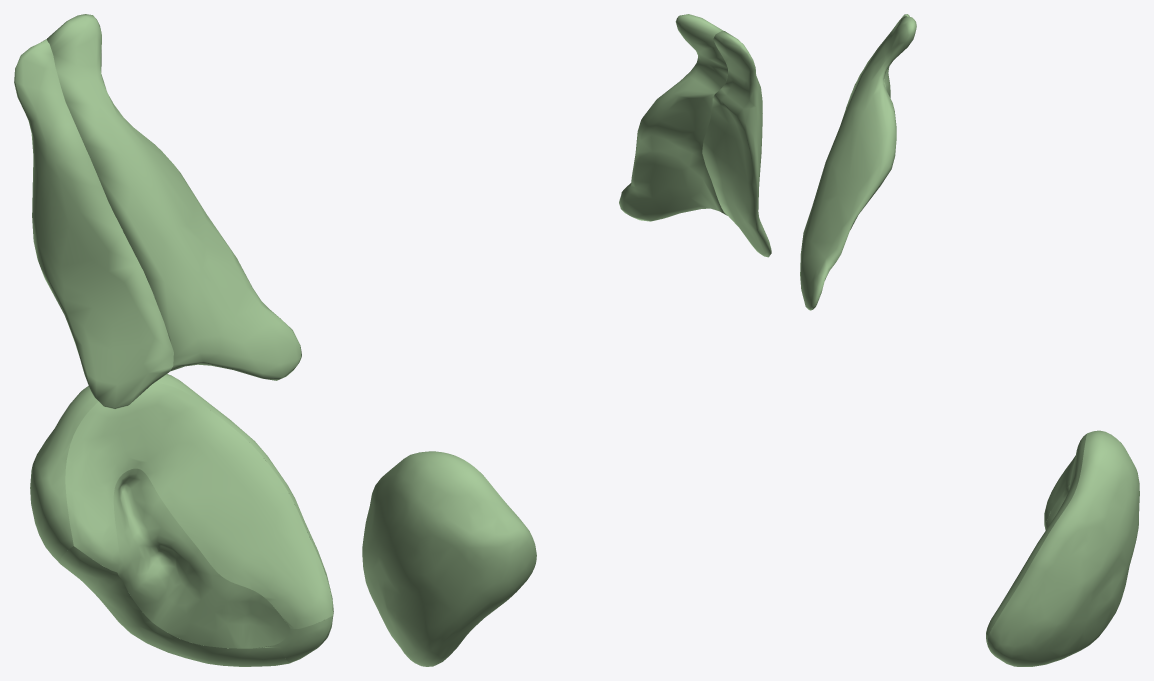
File: adult_female.lymphatic.LOD1.glb
3 views of the same model, side by side, from view 1: azimuth 30°, elevation 25°; view 2: azimuth 150°, elevation 25°; view 3: azimuth 270°, elevation 25° (orthographic). The views are drawn at different scales.
Parts seen in each view (by area): view 1: ADULT.FEMALE.LYMPHATIC.GASTRIC_SURFACE_OF_SPLEEN, ADULT.FEMALE.LYMPHATIC.THYMUS_LOBE.L, ADULT.FEMALE.LYMPHATIC.THYMUS_LOBE.R, ADULT.FEMALE.LYMPHATIC.HILUM_OF_SPLEEN, ADULT.FEMALE.LYMPHATIC.DIAPHRAGMATIC_SURFACE_OF_SPLEEN, ADULT.FEMALE.LYMPHATIC.RENAL_SURFACE_OF_SPLEEN, ADULT.FEMALE.LYMPHATIC.COLIC_SURFACE_OF_SPLEEN; view 2: ADULT.FEMALE.LYMPHATIC.DIAPHRAGMATIC_SURFACE_OF_SPLEEN, ADULT.FEMALE.LYMPHATIC.THYMUS_LOBE.L, ADULT.FEMALE.LYMPHATIC.THYMUS_LOBE.R; view 3: ADULT.FEMALE.LYMPHATIC.DIAPHRAGMATIC_SURFACE_OF_SPLEEN, ADULT.FEMALE.LYMPHATIC.THYMUS_LOBE.L, ADULT.FEMALE.LYMPHATIC.GASTRIC_SURFACE_OF_SPLEEN.
Boxes of the visible parts, <box> form: ADULT.FEMALE.LYMPHATIC.GASTRIC_SURFACE_OF_SPLEEN: <box>65,382,332,628</box>; ADULT.FEMALE.LYMPHATIC.THYMUS_LOBE.L: <box>47,14,301,380</box>; ADULT.FEMALE.LYMPHATIC.THYMUS_LOBE.R: <box>14,39,173,409</box>; ADULT.FEMALE.LYMPHATIC.HILUM_OF_SPLEEN: <box>113,468,290,648</box>; ADULT.FEMALE.LYMPHATIC.DIAPHRAGMATIC_SURFACE_OF_SPLEEN: <box>30,374,333,666</box>; ADULT.FEMALE.LYMPHATIC.RENAL_SURFACE_OF_SPLEEN: <box>59,546,289,666</box>; ADULT.FEMALE.LYMPHATIC.COLIC_SURFACE_OF_SPLEEN: <box>279,615,332,662</box>; ADULT.FEMALE.LYMPHATIC.DIAPHRAGMATIC_SURFACE_OF_SPLEEN: <box>362,451,536,666</box>; ADULT.FEMALE.LYMPHATIC.THYMUS_LOBE.L: <box>619,14,727,221</box>; ADULT.FEMALE.LYMPHATIC.THYMUS_LOBE.R: <box>702,31,771,257</box>; ADULT.FEMALE.LYMPHATIC.DIAPHRAGMATIC_SURFACE_OF_SPLEEN: <box>987,430,1139,666</box>; ADULT.FEMALE.LYMPHATIC.THYMUS_LOBE.L: <box>800,16,916,310</box>; ADULT.FEMALE.LYMPHATIC.GASTRIC_SURFACE_OF_SPLEEN: <box>986,434,1086,635</box>.
Size of the model in its own units: 0.147 by 0.2821 by 0.1566.
